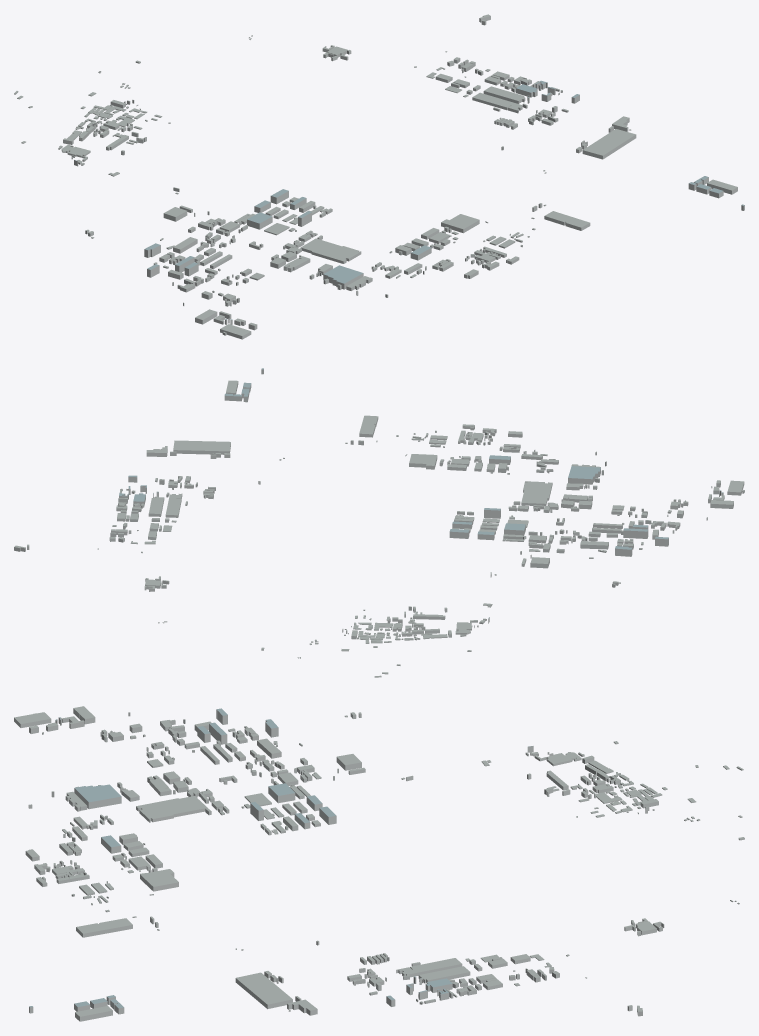
Rendered from far.glb.
3 renders of one model, top to bottom at view 1: azimuth 30°, elevation 25°; view 2: azimuth 150°, elevation 25°; view 3: azimuth 270°, elevation 25°, orthographic. The views are drawn at different scales.
Bounding box in the file's own units: 2145 × 33.49 × 2135.
